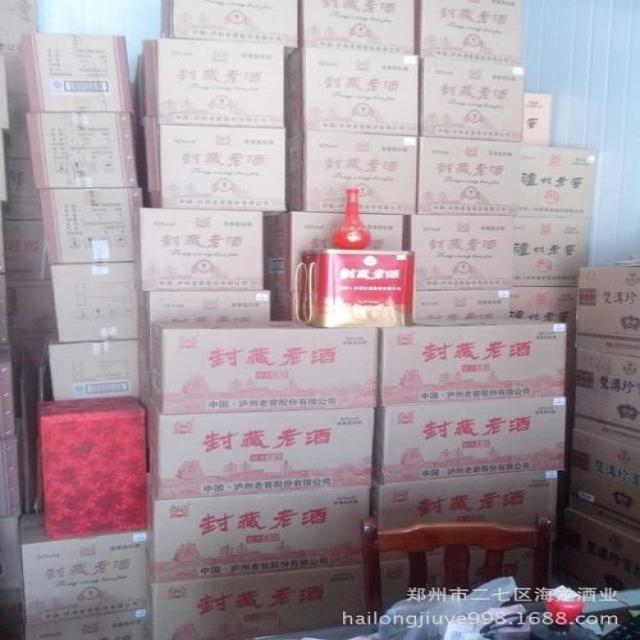box: (138, 396, 375, 502), (146, 319, 379, 415), (142, 486, 371, 581), (378, 314, 568, 407), (372, 397, 566, 486), (147, 563, 371, 640), (370, 472, 557, 564), (361, 544, 562, 626), (35, 392, 146, 539), (261, 213, 408, 321), (17, 512, 148, 626), (129, 39, 285, 129), (138, 123, 285, 214), (284, 45, 419, 135), (284, 129, 419, 215), (556, 415, 640, 537), (138, 210, 264, 290), (415, 55, 524, 144), (293, 249, 413, 329), (557, 504, 640, 615), (22, 32, 134, 114), (415, 134, 522, 215), (32, 114, 146, 188), (407, 215, 515, 293), (8, 340, 143, 402), (37, 190, 143, 266), (161, 0, 301, 57), (45, 264, 141, 344), (417, 0, 526, 68), (515, 144, 599, 221), (298, 1, 417, 53), (576, 266, 640, 358), (572, 346, 640, 431), (513, 217, 591, 289), (138, 290, 271, 326), (24, 608, 152, 638), (0, 1, 40, 95), (4, 278, 60, 343), (0, 219, 52, 279), (0, 512, 24, 640), (411, 292, 511, 320), (3, 157, 42, 221), (1, 91, 36, 160), (507, 288, 579, 320), (524, 93, 552, 147), (0, 55, 8, 128), (0, 129, 8, 202)
